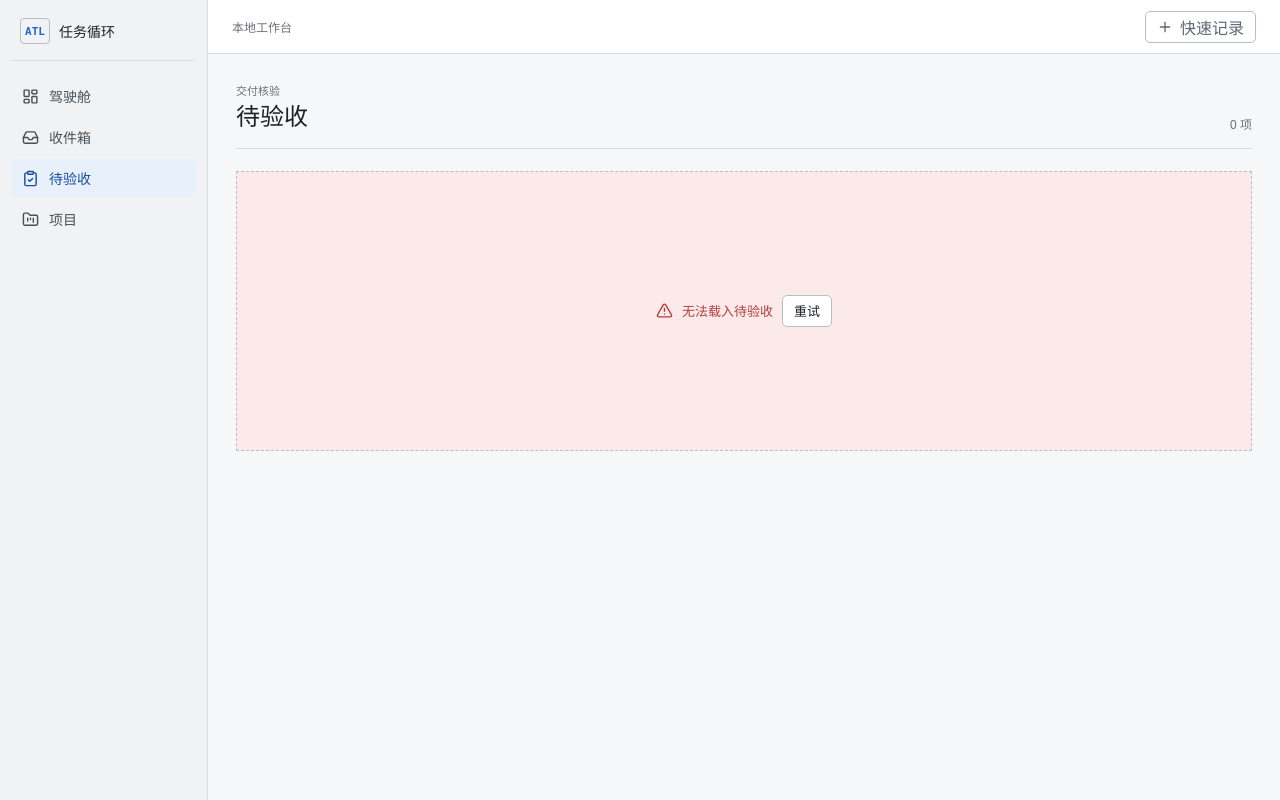
Test case: page data states › shows a retryable review error without leaving the page
The image size is (1280, 800).
Expected: the text "无法载入待验收" is shown, [682,301,773,320]
Click the button "重试" at (807, 311), box [782,295,832,327]
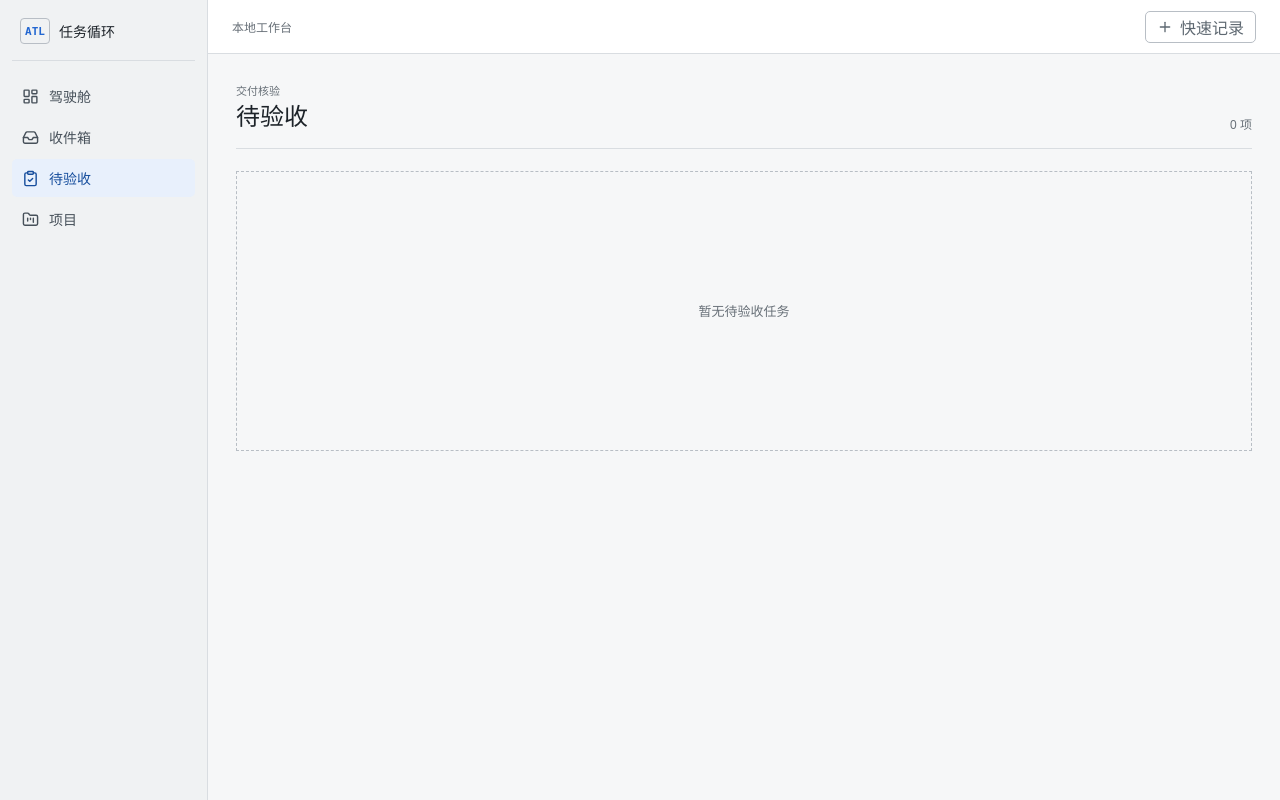
Now the text "暂无待验收任务" is shown, box [236,171,1252,451]
